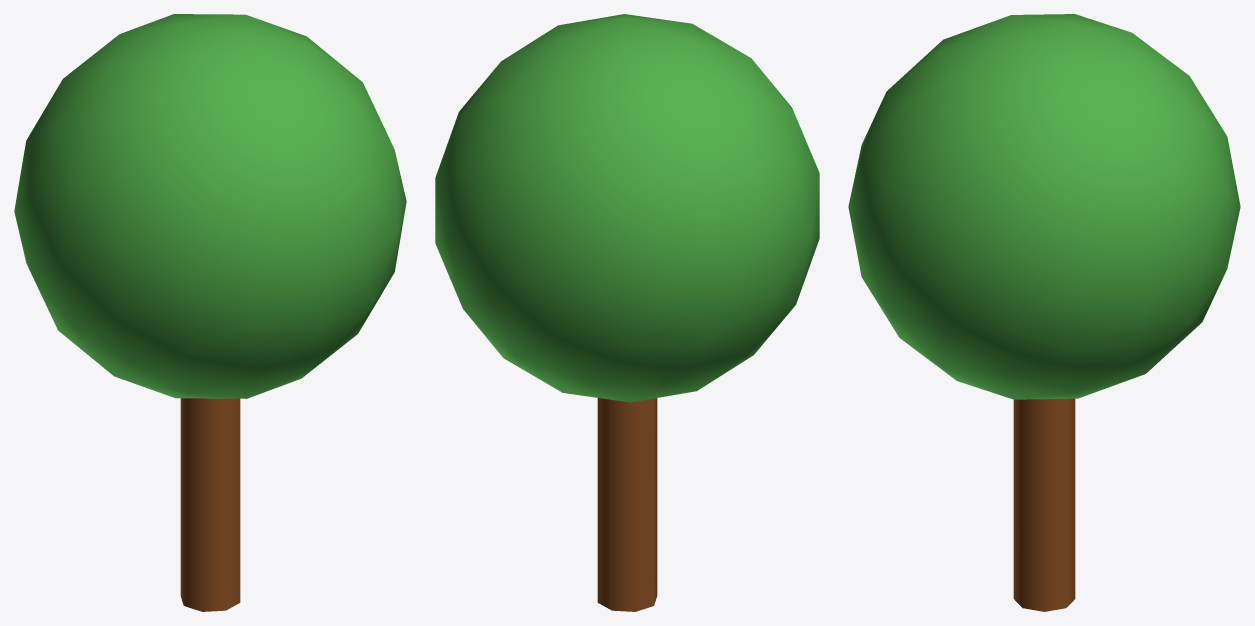
File: tree_sphere_01.FBX
3 views of the same model, side by side, from view 1: azimuth 30°, elevation 25°; view 2: azimuth 150°, elevation 25°; view 3: azimuth 270°, elevation 25° (orthographic).
Visible parts, largest first — view 1: tree_sphere_01; view 2: tree_sphere_01; view 3: tree_sphere_01.
Part boxes in pixels (x1,y1,x2,y2): tree_sphere_01: [14, 14, 406, 611]; tree_sphere_01: [435, 14, 819, 611]; tree_sphere_01: [848, 14, 1240, 611].
Bounding box in the file's own units: 225 × 228 × 364.
1 material, 1 textured.
